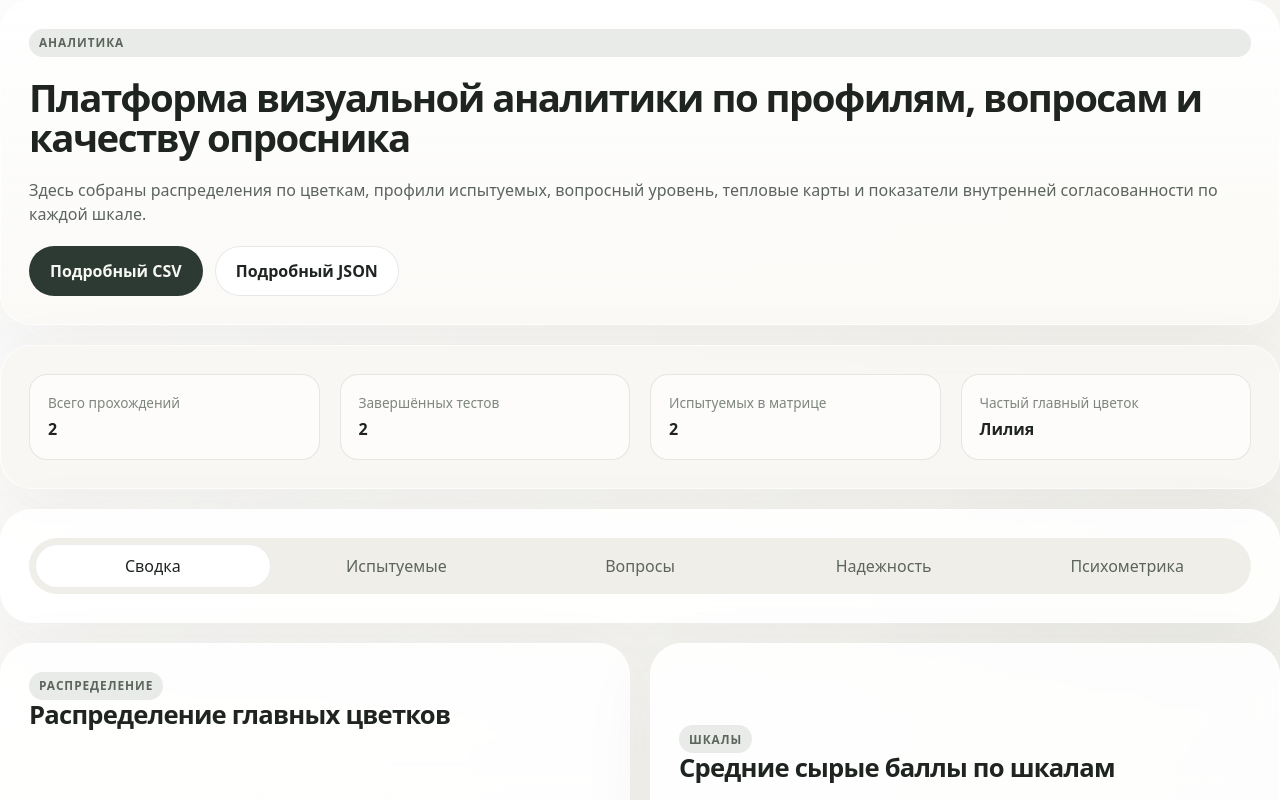
Scenario: AdminAnalyticsDashboard › loads the psychometrics tab with normalization, reliability, factor and cluster sections
Click the button "Психометрика".
click(1127, 566)  # box [1009,544,1245,588]
(page scrolled)
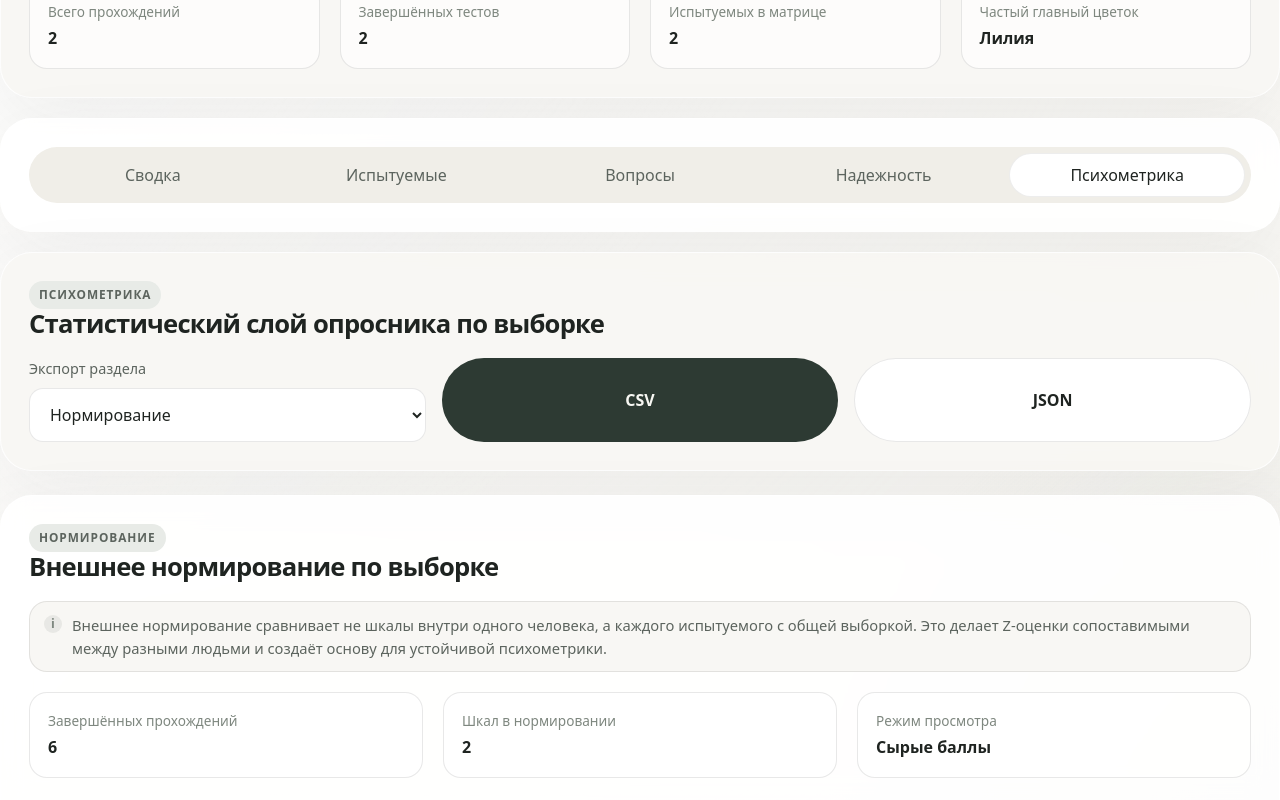
Expected: the heading "Внешнее нормирование по выборке" is shown, [29,552,498,581]
Expected: the text "Внешнее нормирование сравнивает" is shown, [72,616,1190,658]
